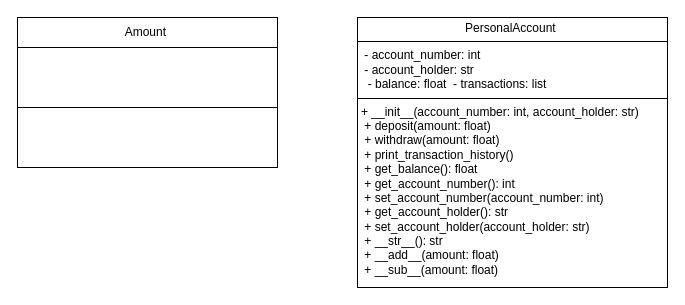
This 685x305 diagram has some shape labels left out. The box of each missing label's shape, as (x1, y1, x2, y2) in pixels:
+ __init__(amount: float, transaction_type: str) + __str__(): str |: (16, 106, 278, 168)
- amount: float - timestamp: datetime - transaction_type: str: (16, 46, 278, 108)
